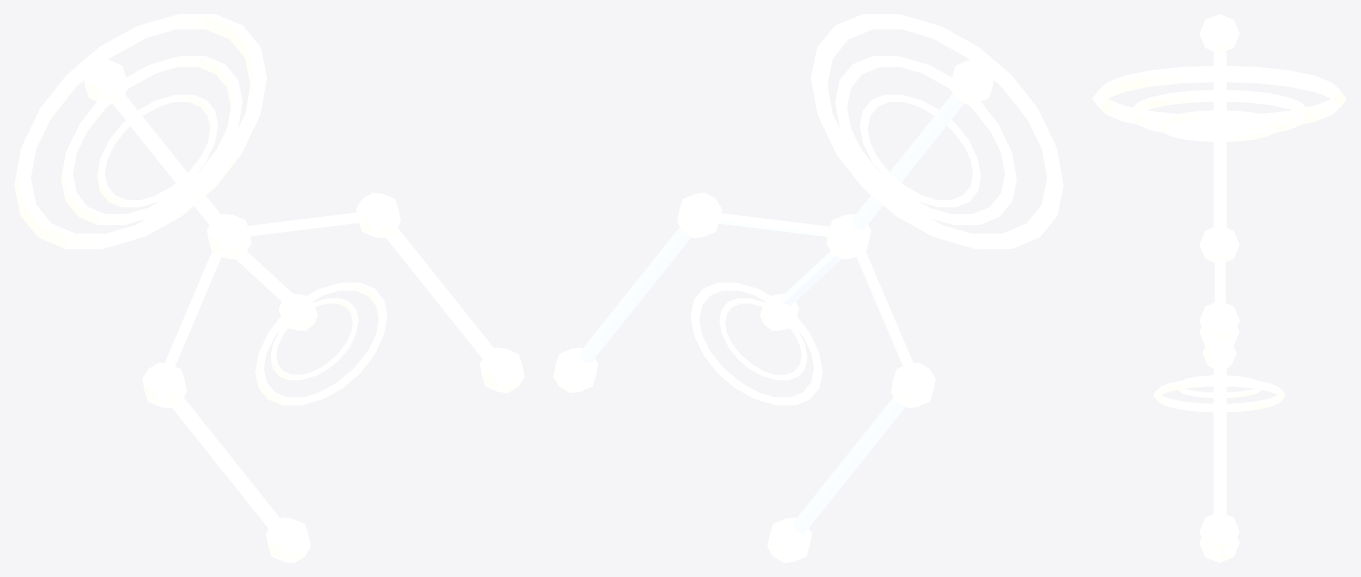
The model's file is neuron8.glb.
3 views of the same model, side by side, from view 1: azimuth 30°, elevation 25°; view 2: azimuth 150°, elevation 25°; view 3: azimuth 270°, elevation 25° (orthographic). The views are drawn at different scales.
Parts seen in each view (by area): view 1: n8; view 2: n8; view 3: n8.
Part boxes in pixels (bbox=[...]): n8: bbox=[14, 14, 524, 562]; n8: bbox=[553, 14, 1063, 562]; n8: bbox=[1092, 14, 1346, 562].
Size of what is drawn, in the model's own units: 4.04 by 4.37 by 2.14.
1 material, 1 textured.
